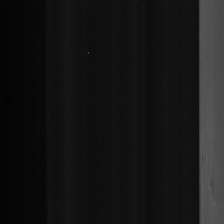silk_spot: (201, 127, 221, 212)
